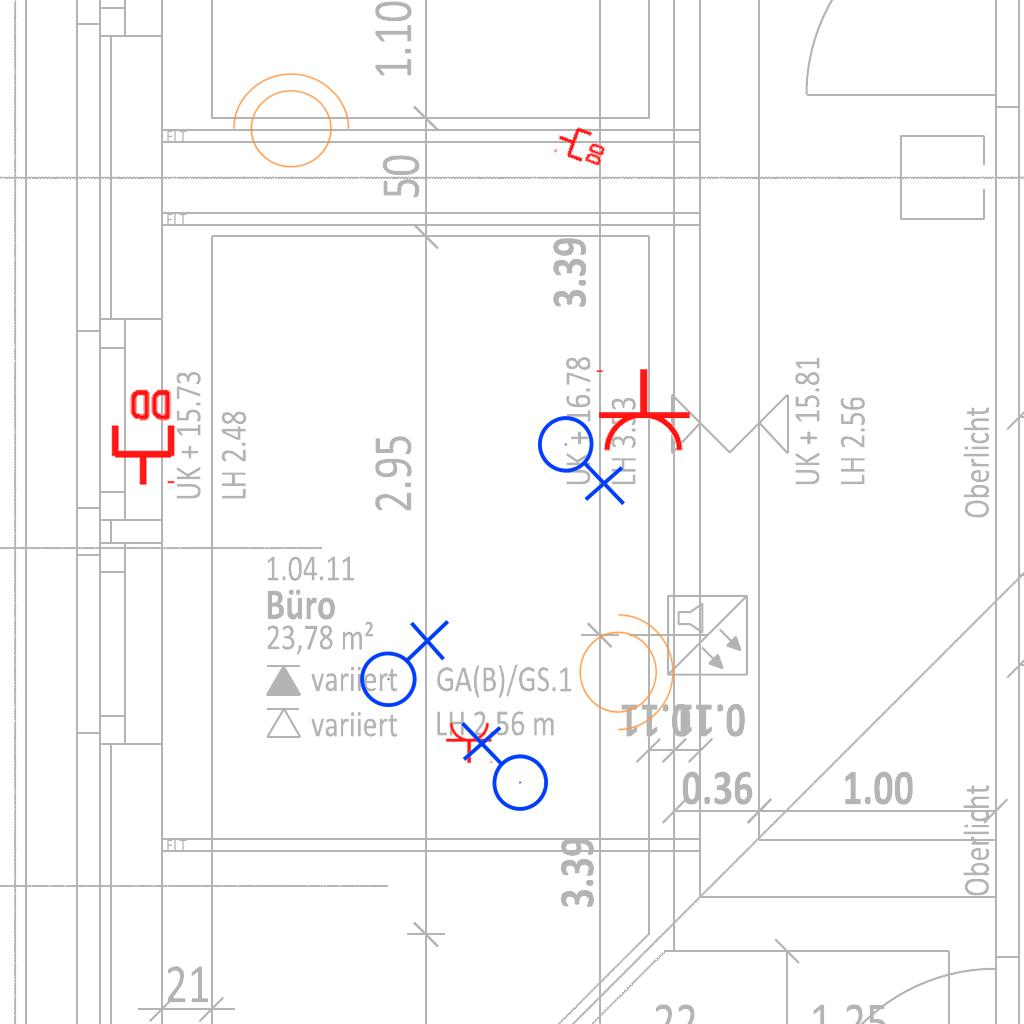Datenanschluss_zweifach: (107, 385, 176, 488), (552, 119, 612, 170)
Elektroanschluss_allgemein_230V_Geraeteanschlussdose_230V: (351, 615, 450, 709), (536, 407, 630, 506), (456, 721, 550, 820)
Scheinwerfer_fuer_Alarmbeleuchtung: (222, 68, 354, 180), (567, 603, 679, 735)
Schukosteckdose_einfach: (592, 367, 692, 454), (445, 721, 495, 764)
